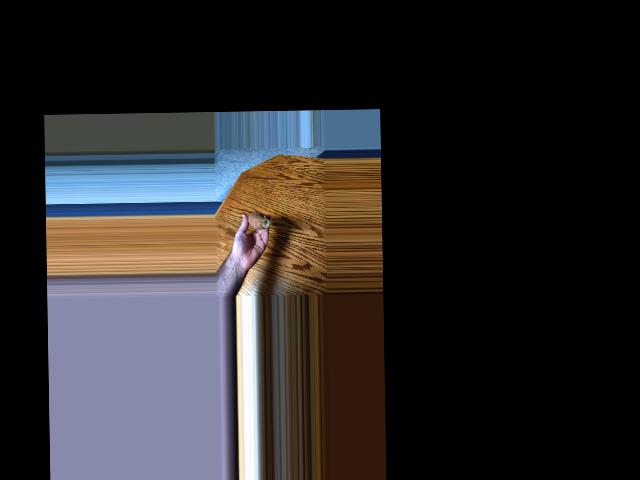sweet_potato: (244, 204, 270, 229)
